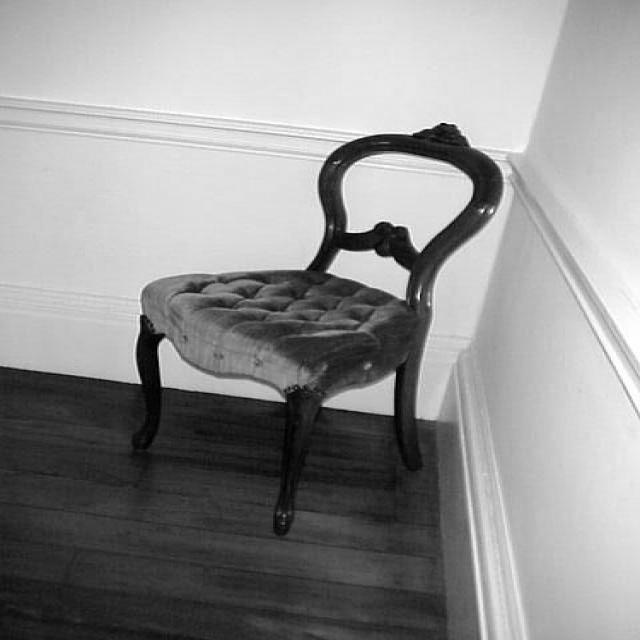chair: (123, 120, 510, 534)
